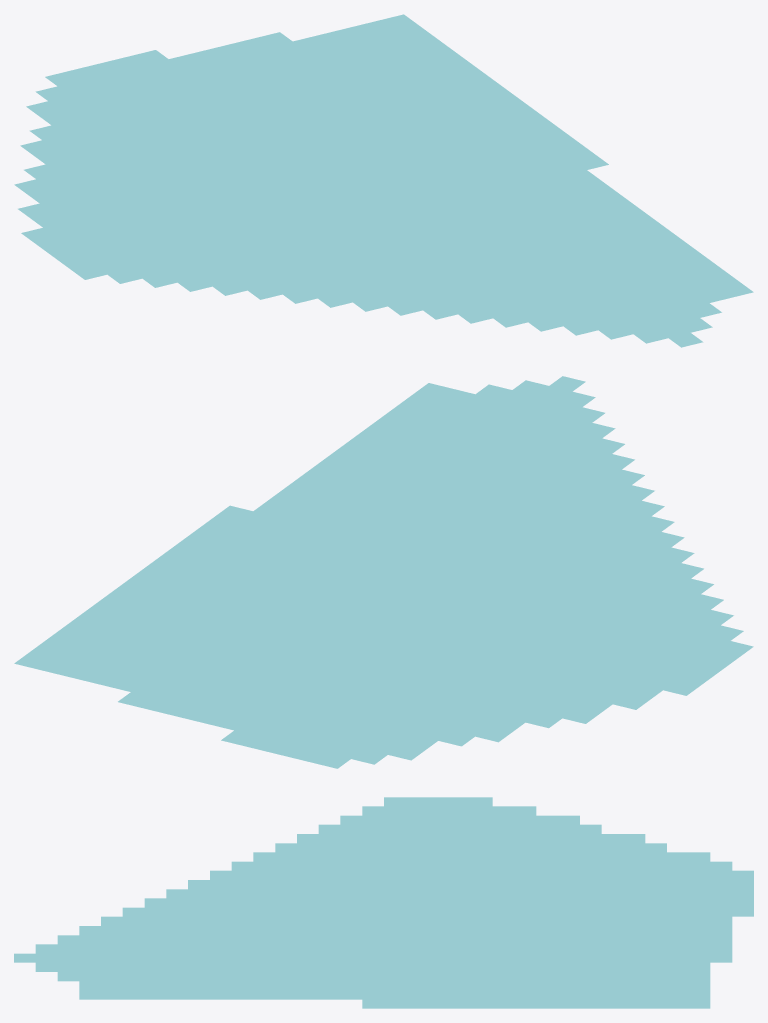
The model's file is water.glb.
3 views of the same model, one above another, from view 1: azimuth 30°, elevation 25°; view 2: azimuth 150°, elevation 25°; view 3: azimuth 270°, elevation 25° (orthographic). The views are drawn at different scales.
Size of the model in its own units: 2.76 by 0 by 4.08.
